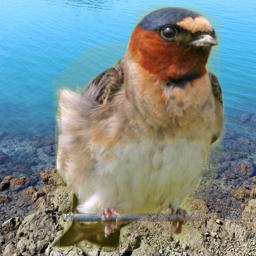Swallow: (50, 6, 230, 251)
